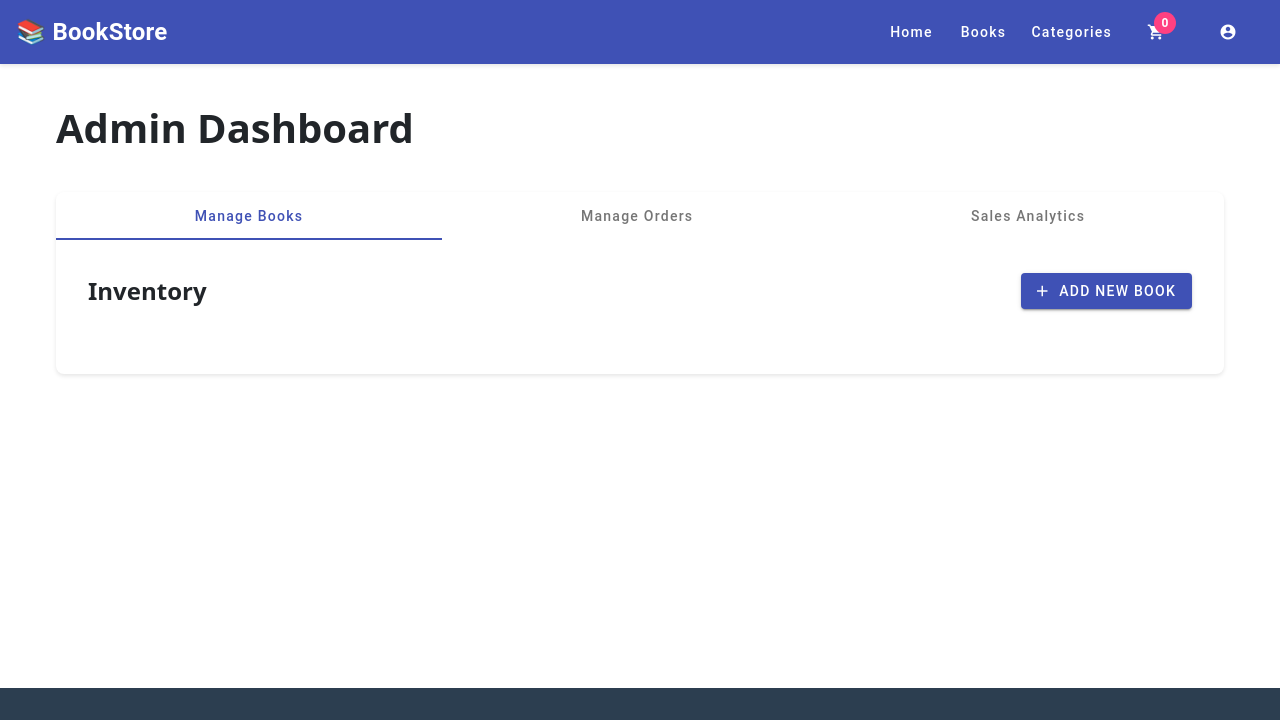
Scenario: Admin Page › should toggle add book form
Step 1. Click the button "ADD NEW BOOK" → (1107, 291), box x1=1021 y1=273 x2=1192 y2=309
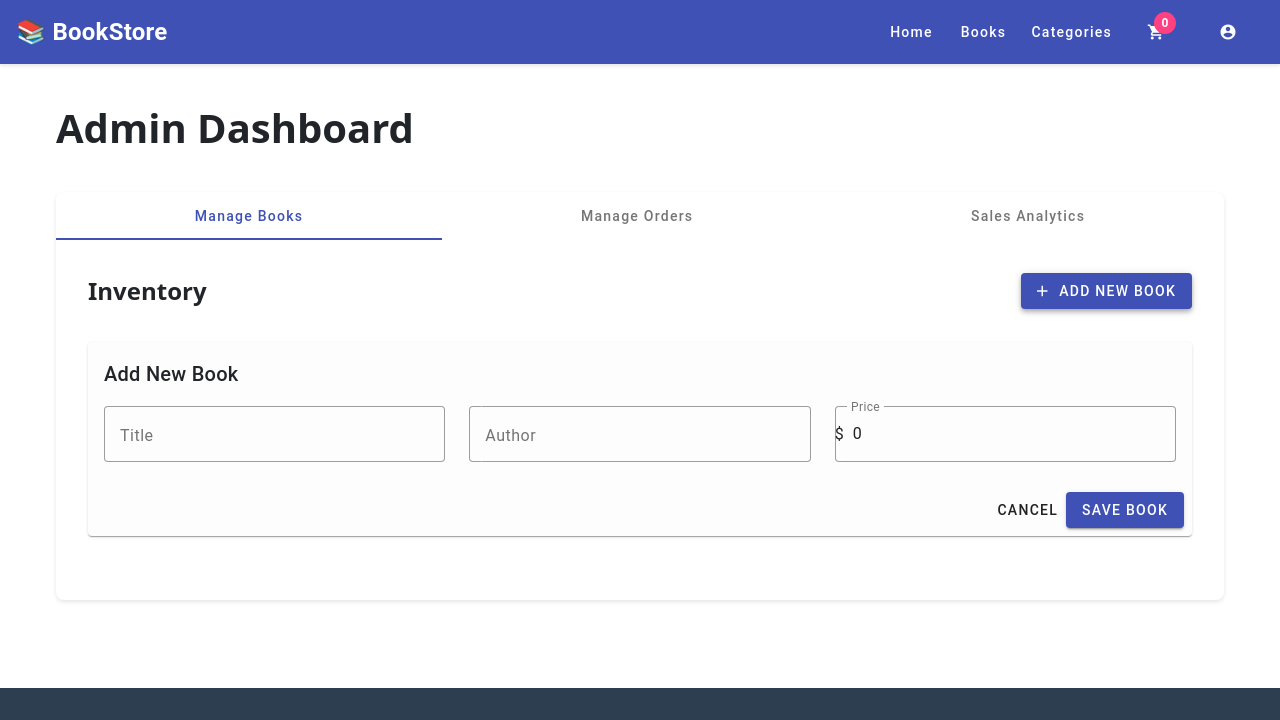
Expected: the field with placeholder "e.g. The Great Gatsby" is shown, x1=120 y1=422 x2=429 y2=446
Expected: the field with placeholder "e.g. F. Scott Fitzgerald" is shown, x1=485 y1=422 x2=794 y2=446
